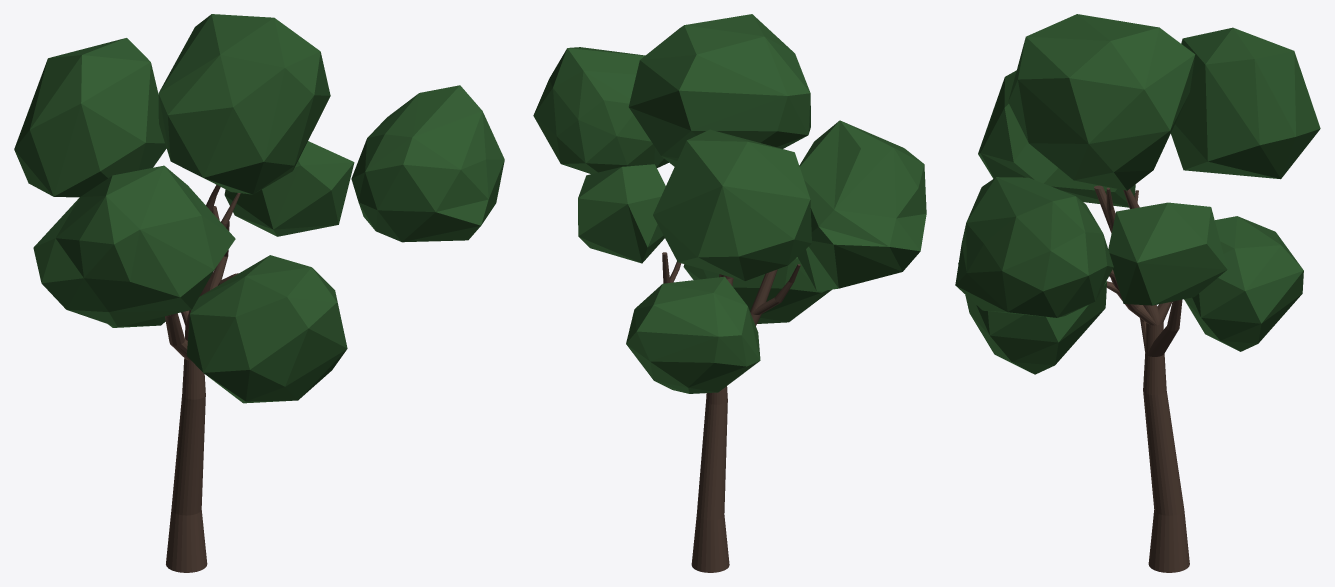
Rendered from Tree2.fbx.
The picture shows the model from 3 angles, left to right: view 1: azimuth 30°, elevation 25°; view 2: azimuth 150°, elevation 25°; view 3: azimuth 270°, elevation 25°; orthographic projection. The views are drawn at different scales.
Visible parts, largest first — view 1: Leaves, Trunk; view 2: Leaves, Trunk; view 3: Leaves, Trunk.
Boxes of the visible parts, left/top/right/bottom form: Leaves: left=14, top=14, right=504, bottom=403; Trunk: left=165, top=185, right=240, bottom=572; Leaves: left=533, top=14, right=926, bottom=393; Trunk: left=662, top=252, right=800, bottom=572; Leaves: left=955, top=14, right=1320, bottom=374; Trunk: left=1094, top=185, right=1189, bottom=572.
Bounding box in the file's own units: 520 × 639 × 383.
